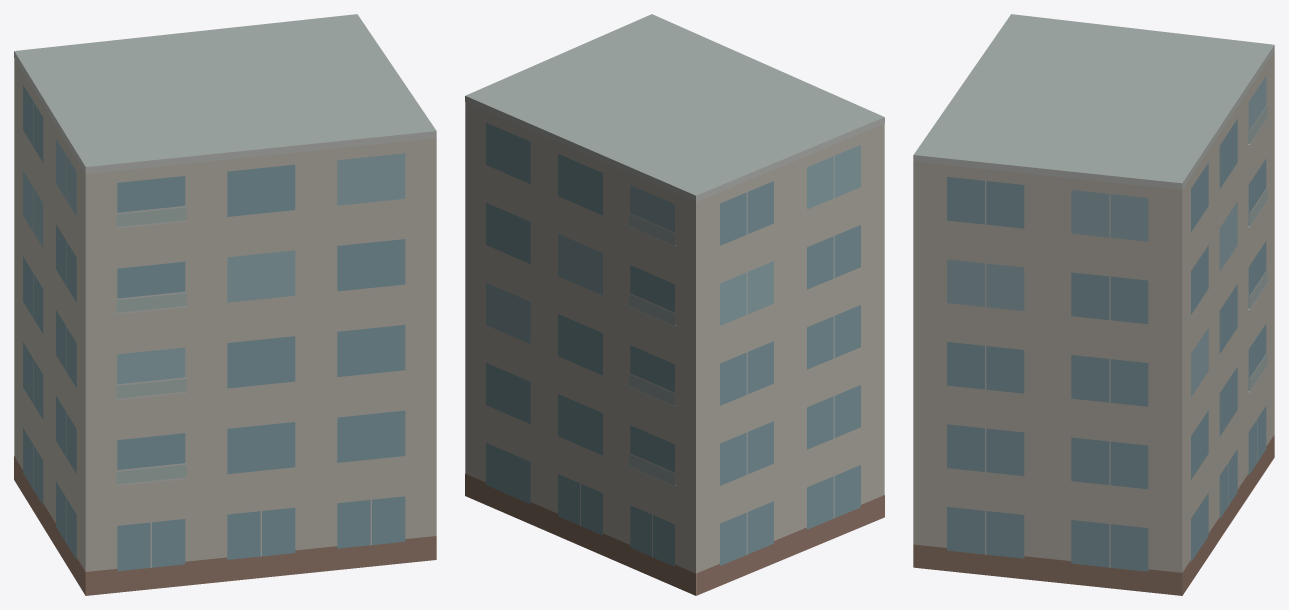
The model's file is survey-upis-32879728.glb.
3 renders of one model, left to right at view 1: azimuth 30°, elevation 25°; view 2: azimuth 150°, elevation 25°; view 3: azimuth 270°, elevation 25°, orthographic. The views are drawn at different scales.
Parts seen in each view (by area): view 1: survey-upis-32879728.tmp; view 2: survey-upis-32879728.tmp; view 3: survey-upis-32879728.tmp.
Boxes of the visible parts, x1,y1,x2,y2 form: survey-upis-32879728.tmp: [14, 14, 436, 595]; survey-upis-32879728.tmp: [465, 14, 884, 595]; survey-upis-32879728.tmp: [913, 14, 1274, 595].
Bounding box in the file's own units: 13.39 × 15.2 × 12.07.
